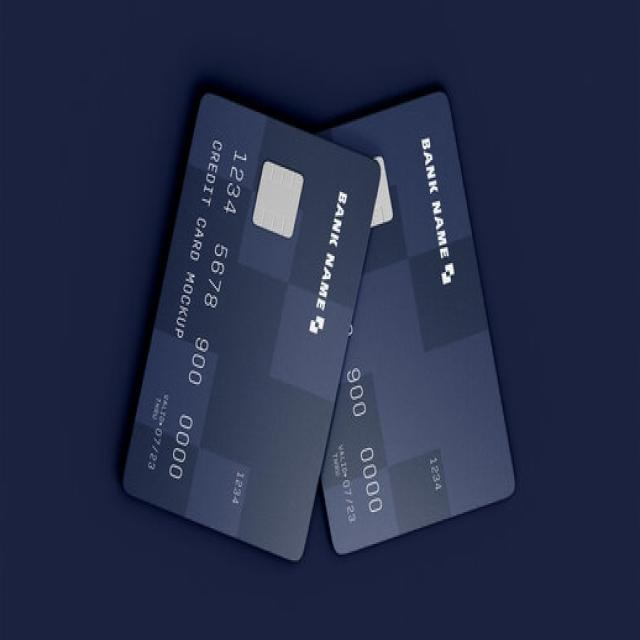payment_card: (120, 90, 383, 562), (311, 89, 516, 556)
